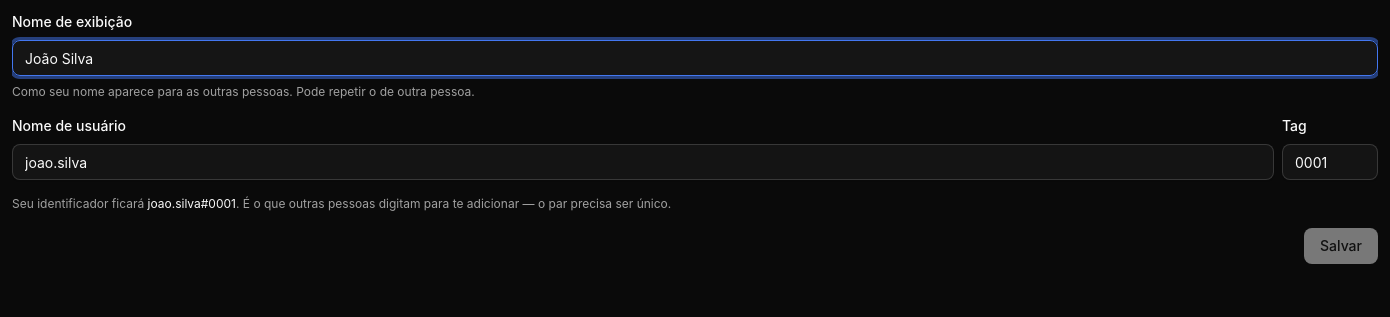
Test: EditProfileForm › erro do servidor aparece legível no formulário, sem fechar o diálogo
Type "joao" into the field labelled "Nome de usuário" at (643, 162), box top-left (12, 144), bottom-right (1274, 180)
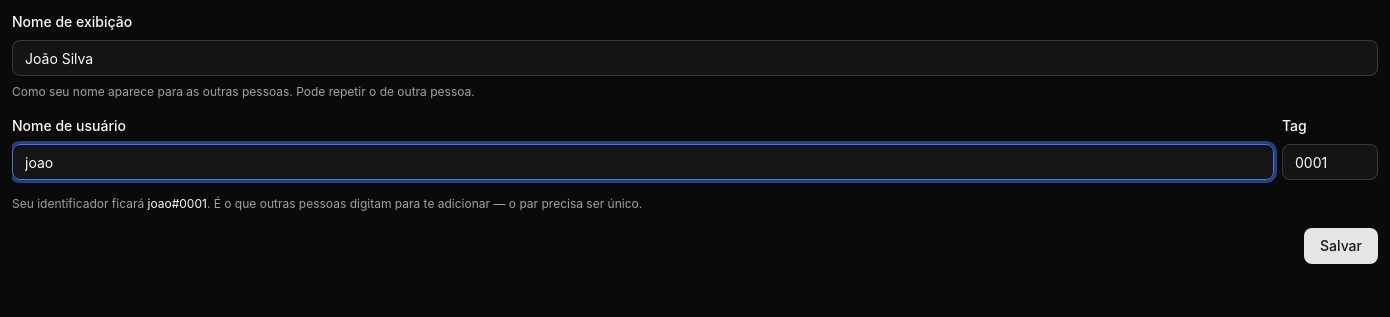
Click the button "Salvar" at (1341, 246), box top-left (1304, 228), bottom-right (1378, 264)
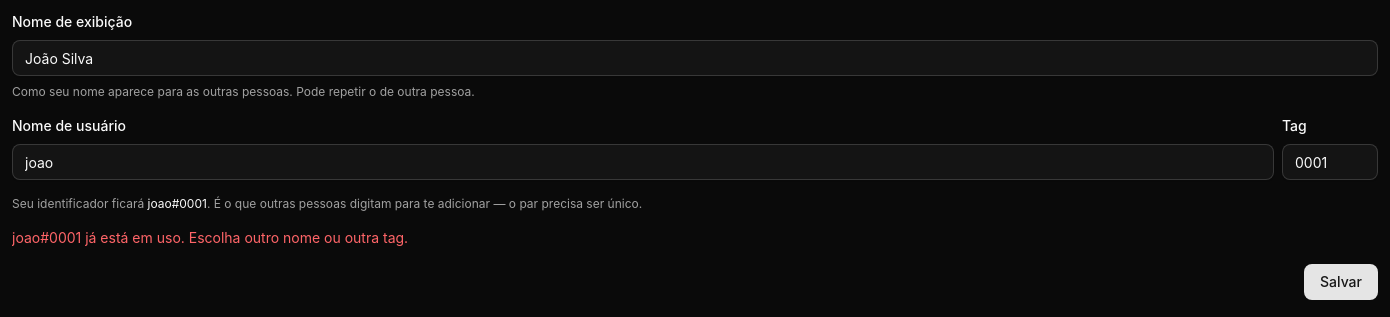
Now the message reads "joao#0001 já está em uso. Escolha outro nome ou outra tag.", box top-left (12, 229), bottom-right (408, 246)
